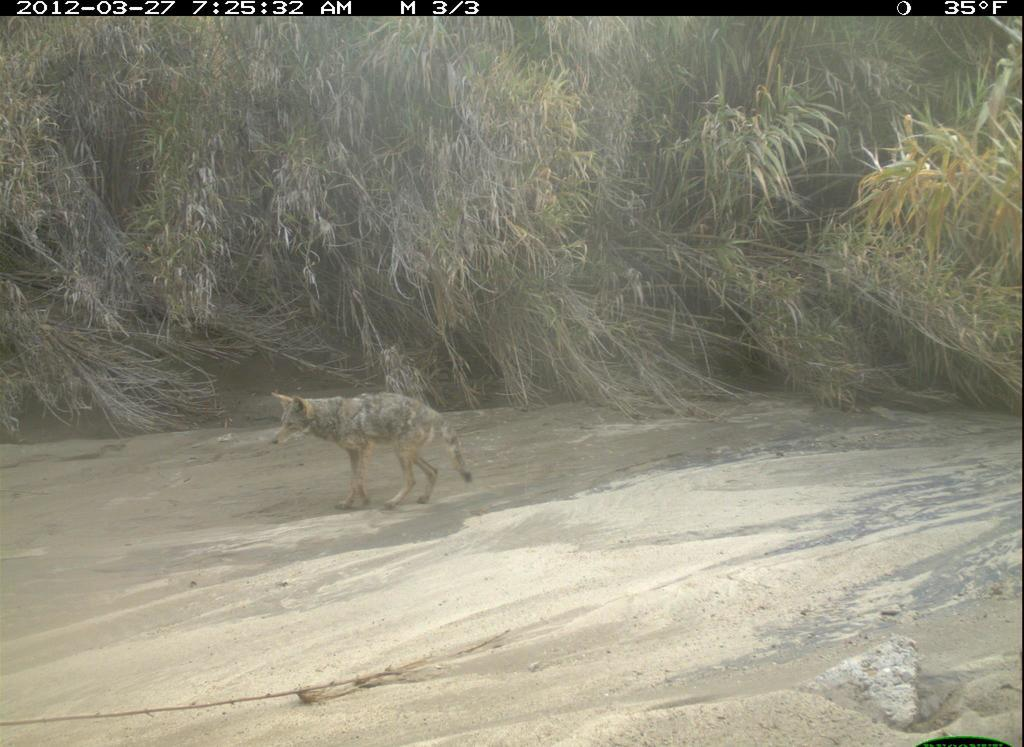coyote: (260, 378, 489, 516)
